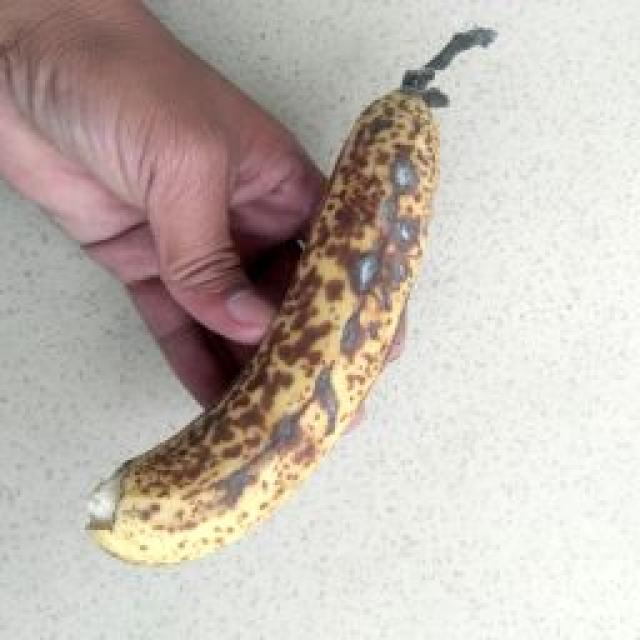banana: (137, 91, 567, 640)
